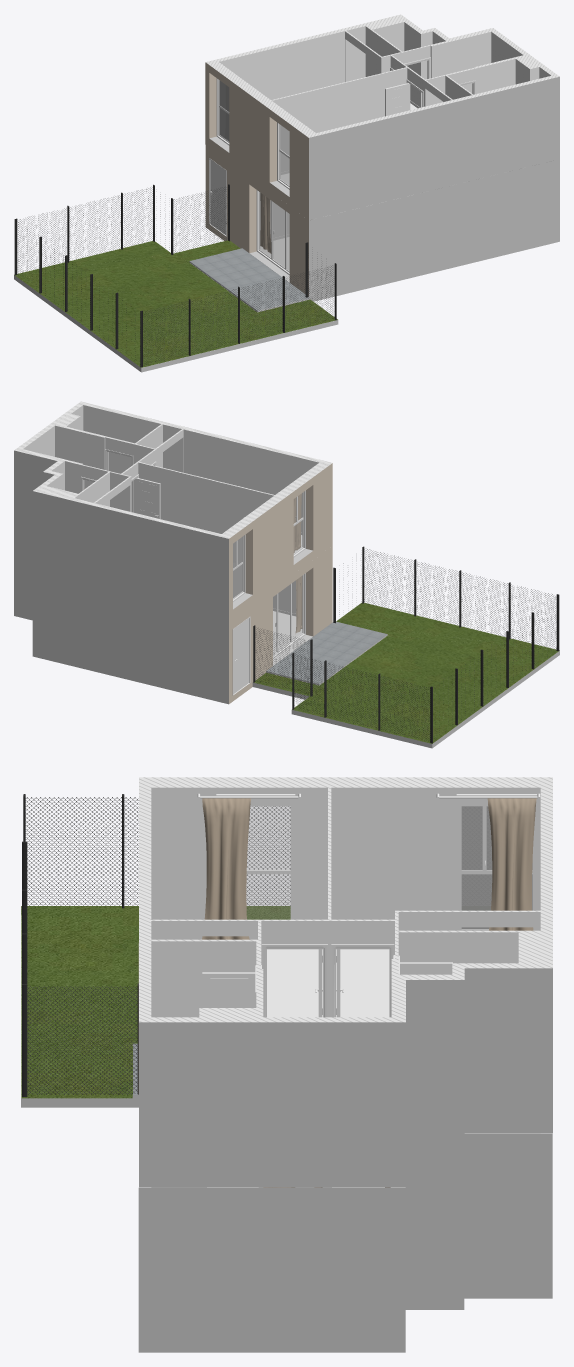
3 views of the same model, one above another, from view 1: azimuth 30°, elevation 25°; view 2: azimuth 150°, elevation 25°; view 3: azimuth 270°, elevation 25° (orthographic). The views are drawn at different scales.
Parts seen in each view (by area): view 1: masonr_02_ext, masonr_01_ext, ground_garden_01, masonry_02, fence_01, wallpaint_02, section_face_02, ground_terrace_01, fence_bars_01, french_window_triple_01, door_01, french_window_simple_01 (+5 smaller); view 2: masonr_02_ext, masonr_01_ext, ground_garden_01, masonry_02, fence_01, wallpaint_003, section_face_02, ground_terrace_01, fence_bars_01, french_window_triple_01, door_01, walltiles_decor_02 (+5 smaller); view 3: masonr_01_ext, masonr_02_ext, masonry_02, ground_garden_01, section_face_02, fence_01, french_window_simple_02, curtain_03, curtain_02, french_window_simple_01, ground_bed_02, ground_bed_01 (+4 smaller).
Boxes of the visible parts, x1=… form: masonr_02_ext: x1=205, y1=62, x2=559, y2=220; masonr_01_ext: x1=14, y1=145, x2=559, y2=372; ground_garden_01: x1=14, y1=240, x2=337, y2=367; masonry_02: x1=272, y1=22, x2=550, y2=172; fence_01: x1=18, y1=186, x2=334, y2=364; wallpaint_02: x1=219, y1=31, x2=344, y2=99; section_face_02: x1=205, y1=14, x2=559, y2=137; ground_terrace_01: x1=189, y1=248, x2=309, y2=310; fence_bars_01: x1=14, y1=184, x2=336, y2=367; french_window_triple_01: x1=256, y1=190, x2=289, y2=274; door_01: x1=209, y1=158, x2=226, y2=236; french_window_simple_01: x1=216, y1=78, x2=229, y2=145; masonr_02_ext: x1=14, y1=450, x2=332, y2=621; masonr_01_ext: x1=14, y1=533, x2=559, y2=748; ground_garden_01: x1=254, y1=602, x2=559, y2=743; masonry_02: x1=23, y1=405, x2=273, y2=533; fence_01: x1=255, y1=549, x2=556, y2=741; wallpaint_003: x1=183, y1=429, x2=318, y2=532; section_face_02: x1=14, y1=401, x2=331, y2=538; ground_terrace_01: x1=266, y1=621, x2=386, y2=683; fence_bars_01: x1=253, y1=546, x2=559, y2=743; french_window_triple_01: x1=273, y1=573, x2=305, y2=658; door_01: x1=232, y1=616, x2=250, y2=695; walltiles_decor_02: x1=83, y1=419, x2=133, y2=473; masonr_01_ext: x1=21, y1=906, x2=552, y2=1352; masonr_02_ext: x1=139, y1=968, x2=552, y2=1187; masonry_02: x1=151, y1=787, x2=540, y2=1017; ground_garden_01: x1=21, y1=906, x2=290, y2=1098; section_face_02: x1=139, y1=777, x2=552, y2=1022; fence_01: x1=26, y1=797, x2=290, y2=1094; french_window_simple_02: x1=216, y1=794, x2=295, y2=919; curtain_03: x1=202, y1=798, x2=250, y2=939; curtain_02: x1=487, y1=798, x2=536, y2=930; french_window_simple_01: x1=456, y1=794, x2=537, y2=930; ground_bed_02: x1=267, y1=949, x2=322, y2=1017; ground_bed_01: x1=336, y1=949, x2=389, y2=1017.
Size of the model in its own units: 15.35 by 5.4 by 7.89.
73 materials, 44 textured.
